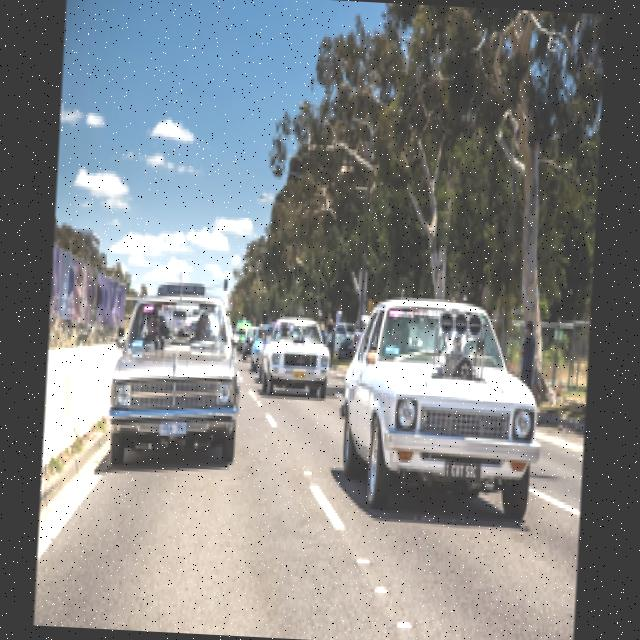Autre: (441, 456, 487, 486), (154, 412, 192, 442), (288, 362, 314, 381)
